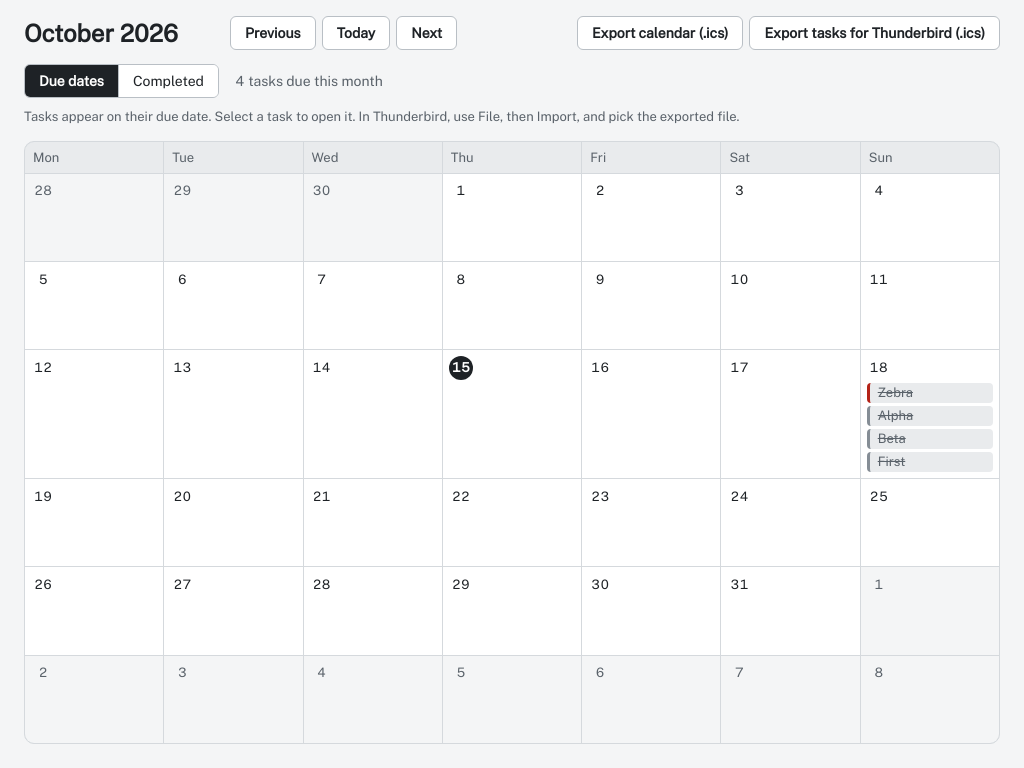
Scenario: CalendarView › completed view › orders a day by completion time, then by title for simultaneous completions
This screenshot has width=1024, height=768.
Click the button "Completed" at (168, 81), box [118, 65, 218, 97]
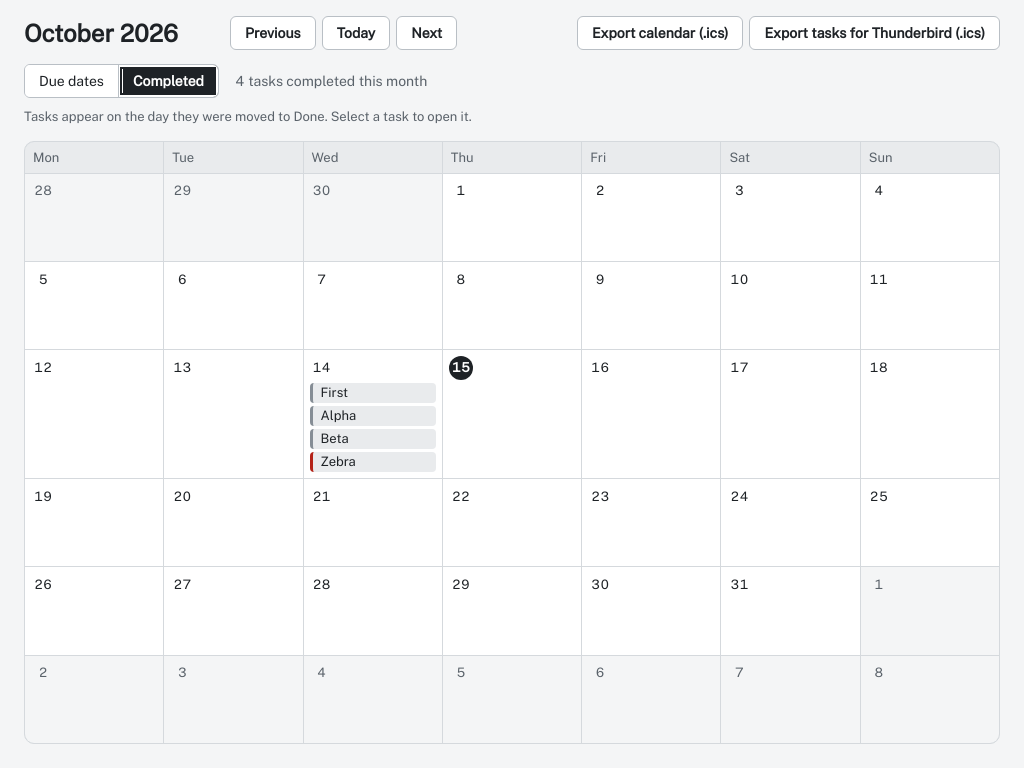
Check: the links read "First", "Alpha", "Beta", "Zebra", in this order, box [310, 383, 436, 403]; [310, 406, 436, 426]; [310, 429, 436, 449]; [310, 452, 436, 472]
